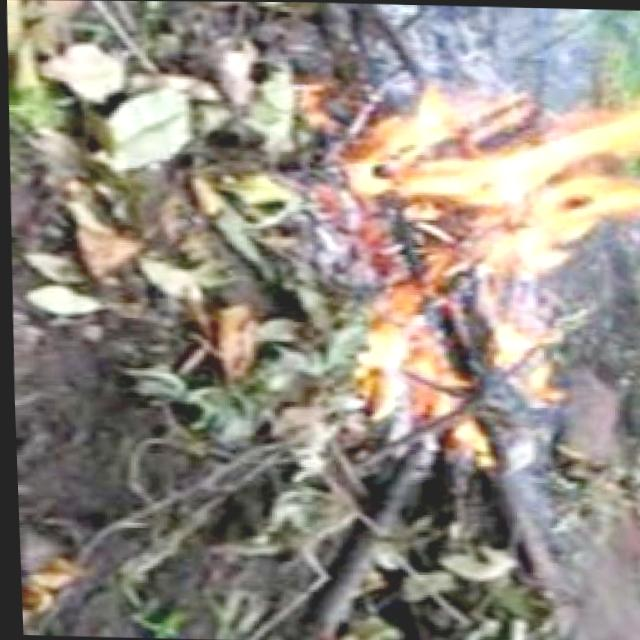helmet: (266, 62, 640, 480)
